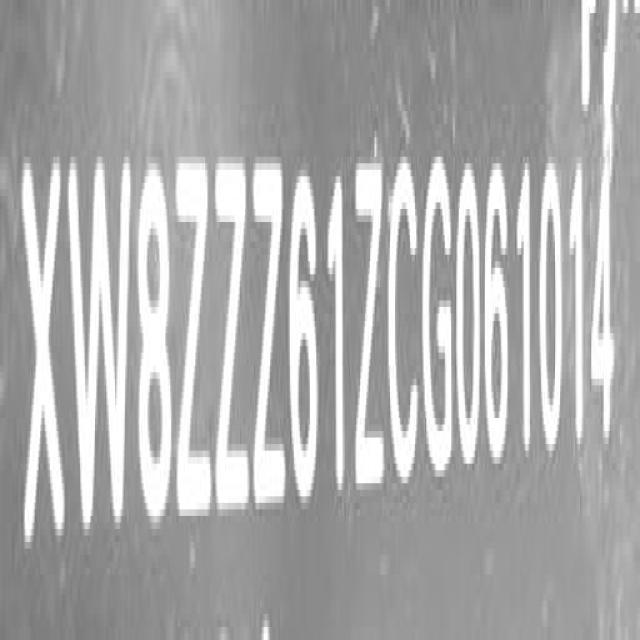0: (540, 155, 567, 466), (457, 158, 482, 479)
1: (326, 154, 347, 513), (568, 152, 586, 459), (518, 152, 534, 470)
4: (591, 148, 621, 457)
6: (290, 154, 324, 519), (484, 159, 511, 475)
8: (136, 153, 172, 541)
C: (389, 145, 421, 496)
G: (424, 152, 456, 490)
W: (70, 148, 132, 556)
X: (20, 146, 64, 574)
Z: (178, 150, 212, 536), (213, 147, 247, 528), (253, 150, 285, 524), (354, 149, 387, 504)
